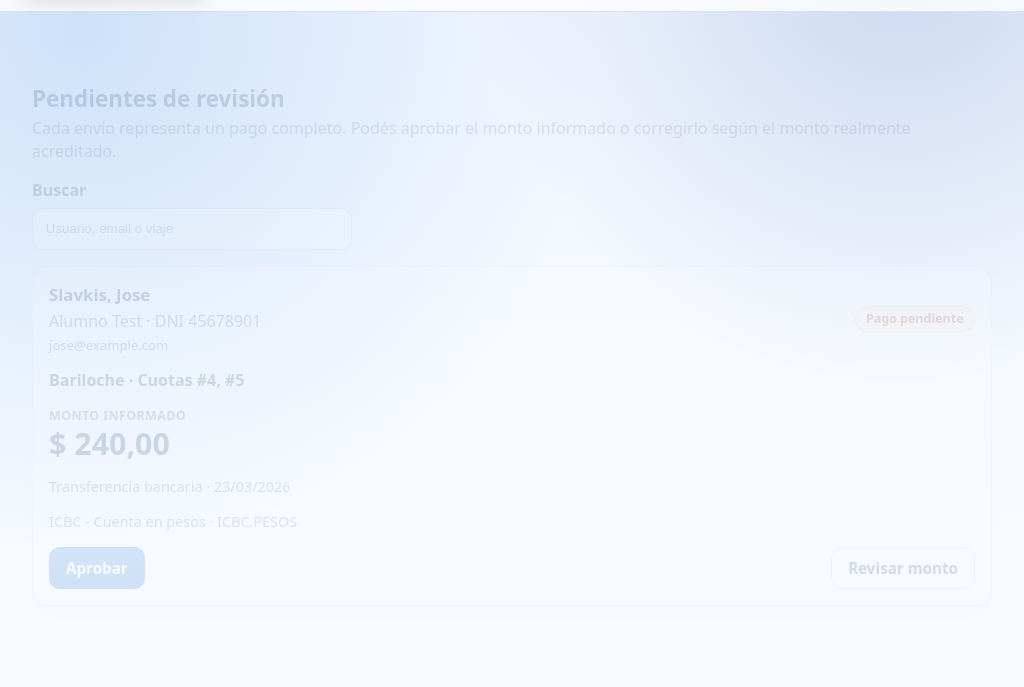
Test: PendingReviewPage amount slider › moving the slider down marks a downward correction
The image size is (1024, 687).
Expected: the heading "Slavkis, Jose" is shown, [49, 283, 150, 306]
Click the button "Revisar monto" at (903, 568), box [831, 547, 975, 589]
(page scrolled)
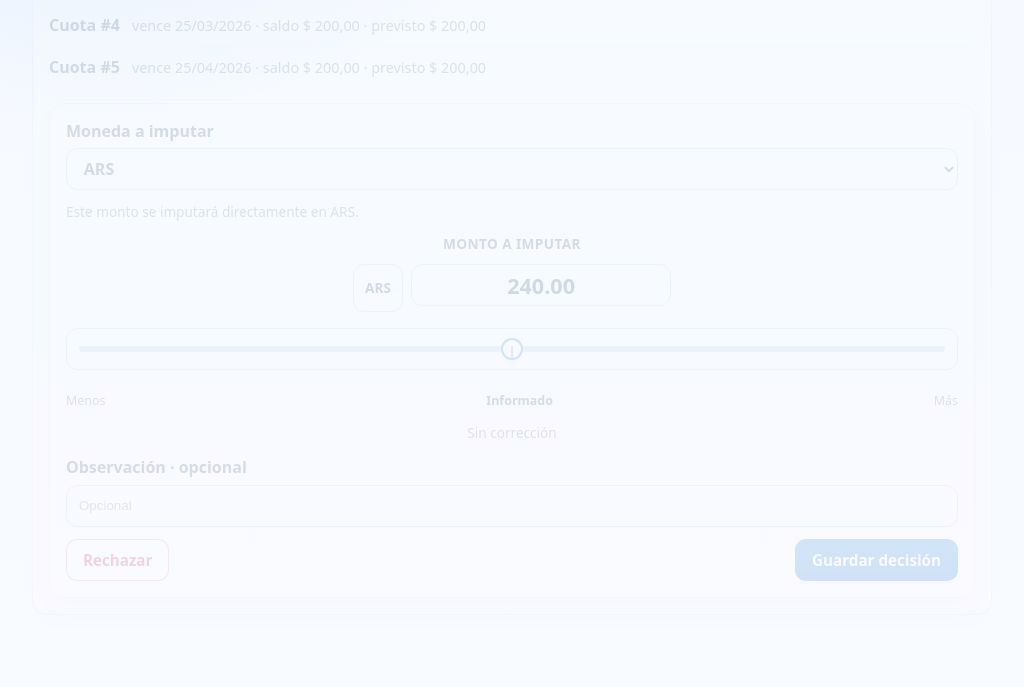
Set the slider named "Corregir monto con barra deslizante" to "375" at (402, 349), box [66, 328, 958, 370]
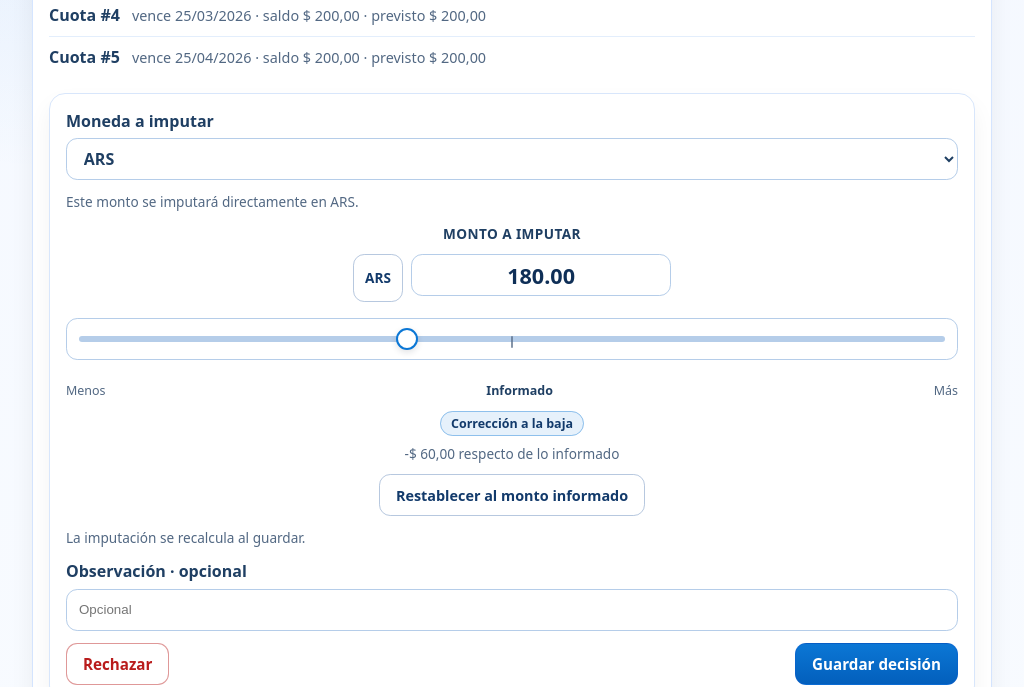
Result: the field named "Monto a imputar" holds "180.00" at [411, 254, 671, 296]
Result: the text "Corrección a la baja" is shown at [440, 411, 584, 436]
Result: the text "-$ 60,00 respecto de lo informado" is shown at [404, 444, 619, 464]
